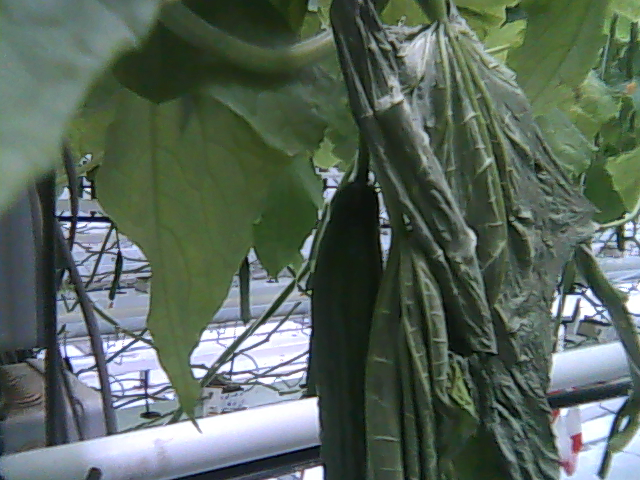concombre: (307, 151, 386, 480)
